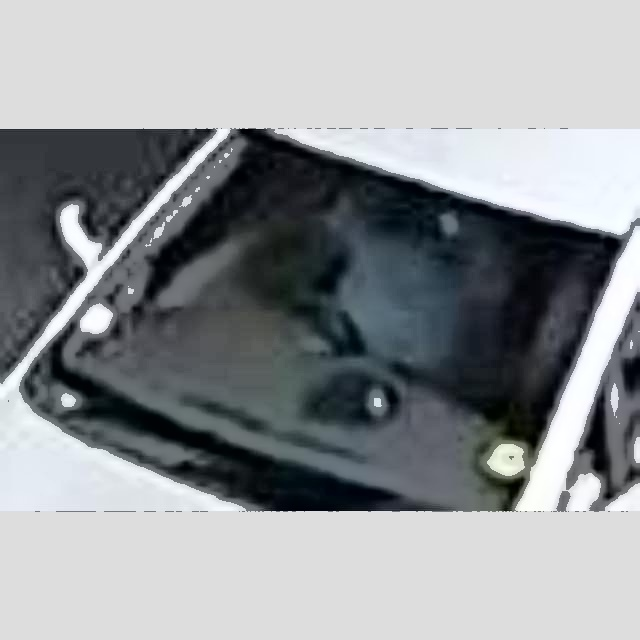tidak-pakai: (280, 180, 486, 398)
